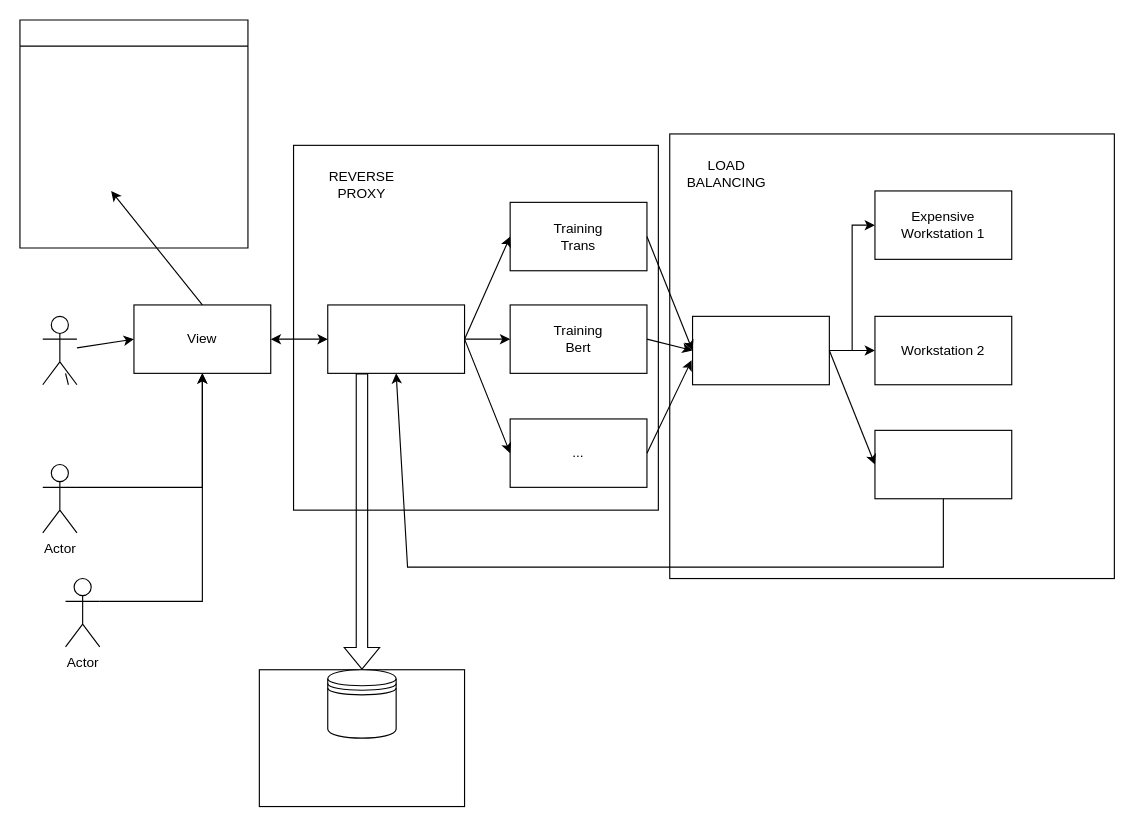
Image size: 1134x827. Some labels were removed from this diagram. Each missing label, with the centre of its shape:
Dispacher: (760,350)
User: (59,350)
Vertical Container: (133,133)
WebServer (Reverse Proxy): (396,338)
Workstation 3: (943,464)
